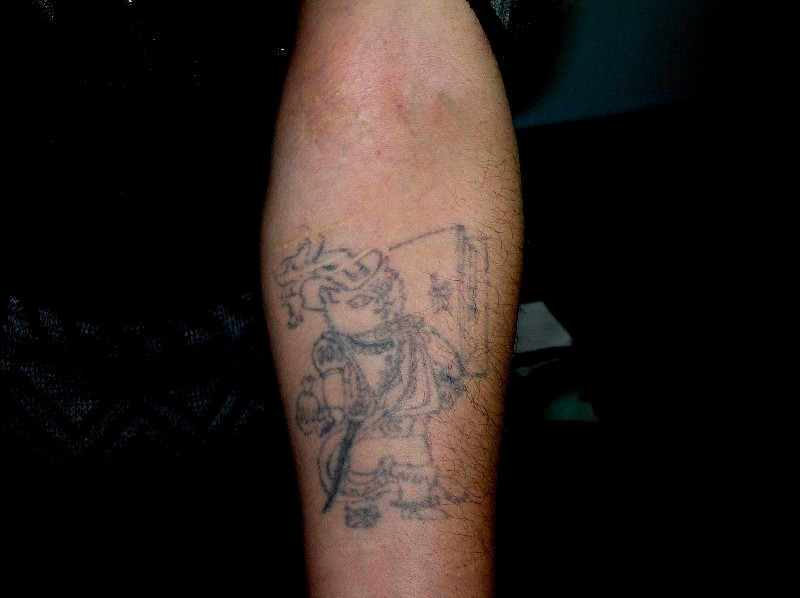tatu8_kot: (272, 212, 509, 534)
